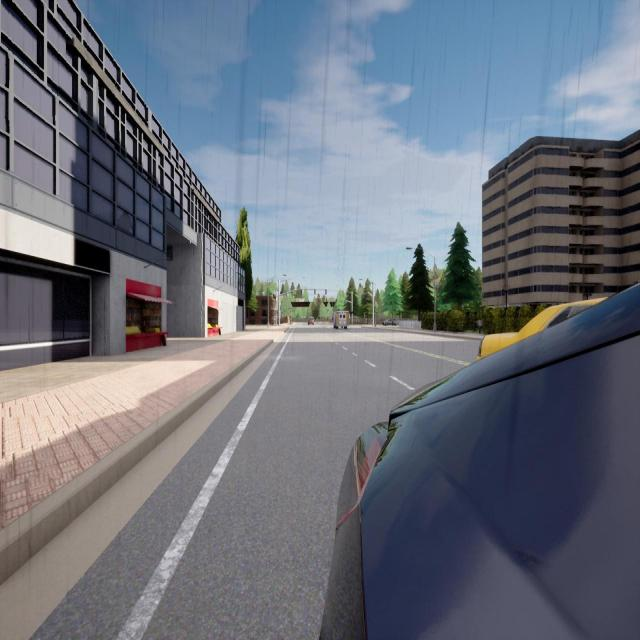Vehicle: (321, 287, 640, 639), (478, 298, 603, 361), (334, 310, 348, 329), (384, 319, 397, 326), (308, 317, 314, 325)
traffic_light: (314, 289, 316, 294), (351, 310, 353, 313), (301, 290, 302, 294), (318, 299, 319, 302), (326, 299, 327, 302), (336, 299, 336, 302), (326, 290, 326, 294)
